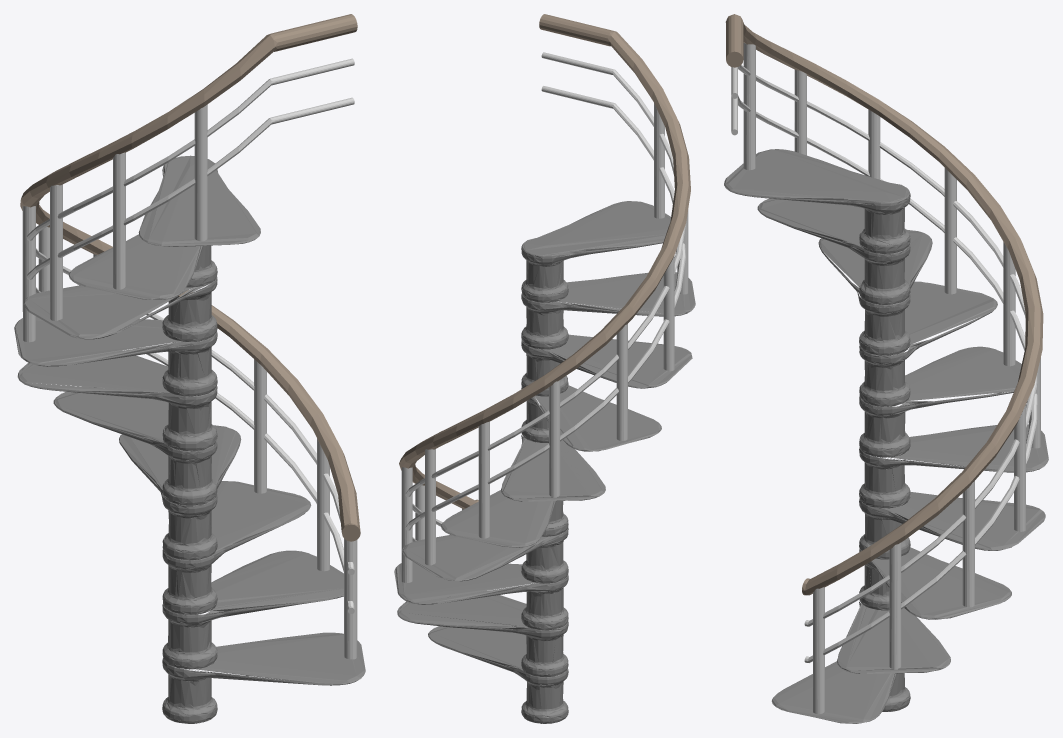
Rendered from sweethome3d-blendswap-cc-0-spiral-staircase.glb.
3 views of the same model, side by side, from view 1: azimuth 30°, elevation 25°; view 2: azimuth 150°, elevation 25°; view 3: azimuth 270°, elevation 25° (orthographic). The views are drawn at different scales.
Parts seen in each view (by area): view 1: stairs_Cylinder, handrail_Circle, baluster, top_cap_Circle.002; view 2: stairs_Cylinder, handrail_Circle, baluster, top_cap_Circle.002; view 3: stairs_Cylinder, handrail_Circle, baluster, top_cap_Circle.002.
Boxes of the visible parts, <box> form: stairs_Cylinder: <box>14,104,365,723</box>; handrail_Circle: <box>20,35,360,530</box>; baluster: <box>26,79,354,608</box>; top_cap_Circle.002: <box>268,14,357,124</box>; stairs_Cylinder: <box>394,103,695,723</box>; handrail_Circle: <box>399,31,690,509</box>; baluster: <box>405,69,685,541</box>; top_cap_Circle.002: <box>539,14,616,108</box>; stairs_Cylinder: <box>724,43,1048,723</box>; handrail_Circle: <box>743,22,1043,595</box>; baluster: <box>738,65,1037,662</box>; top_cap_Circle.002: <box>725,14,743,135</box>.
Size of the model in its own units: 154 by 356 by 152.
